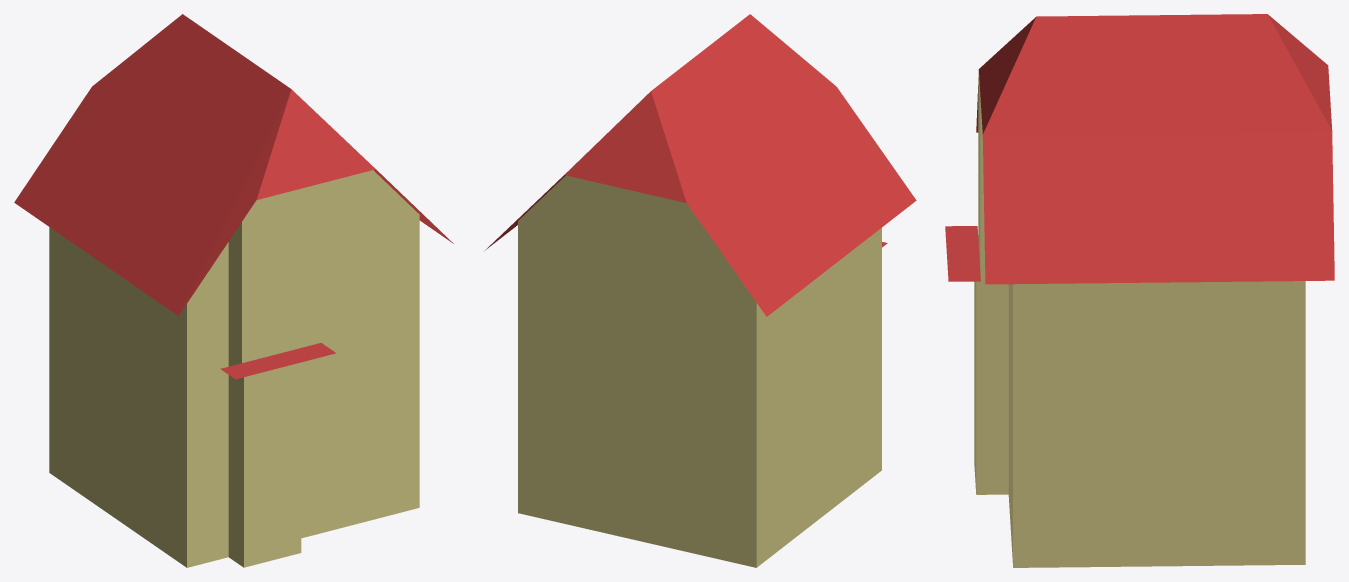
The picture shows the model from 3 angles, left to right: view 1: azimuth 30°, elevation 25°; view 2: azimuth 150°, elevation 25°; view 3: azimuth 270°, elevation 25°; orthographic projection. The views are drawn at different scales.
Parts seen in each view (by area): view 1: group_5, group_3, group_9, group_4, group_7; view 2: group_5, group_3, group_4; view 3: group_5, group_3, group_4, group_7, group_9, group_8.
Part boxes in pixels (box(x1,y1,x2,y2)): group_5: box(49, 170, 419, 567); group_3: box(14, 14, 349, 315); group_9: box(242, 362, 301, 567); group_4: box(15, 76, 453, 314); group_7: box(220, 343, 335, 379); group_5: box(518, 175, 881, 567); group_3: box(486, 14, 916, 316); group_4: box(485, 113, 915, 315); group_5: box(978, 69, 1305, 567); group_3: box(976, 14, 1334, 284); group_4: box(976, 42, 1334, 280); group_7: box(945, 226, 980, 281); group_9: box(974, 281, 980, 494); group_8: box(945, 226, 980, 281).
Size of the model in its own units: 12.95 by 13.71 by 18.93.
